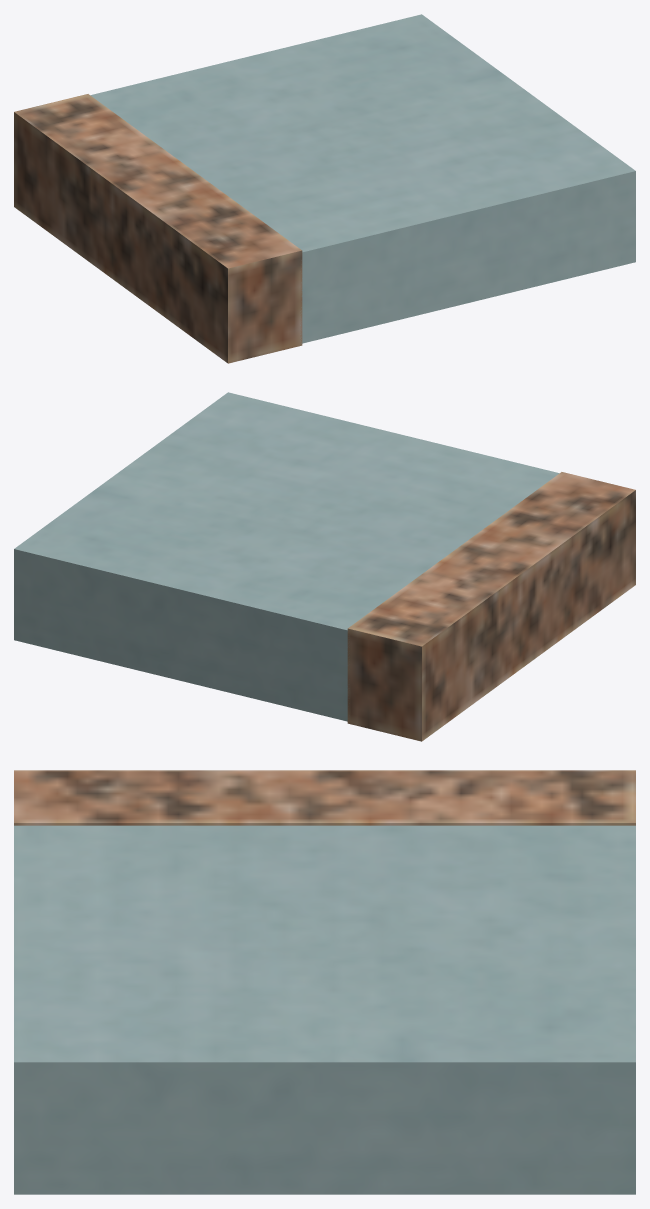
Rendered from set_base_b_03_half.fbx.
3 views of the same model, one above another, from view 1: azimuth 30°, elevation 25°; view 2: azimuth 150°, elevation 25°; view 3: azimuth 270°, elevation 25° (orthographic). The views are drawn at different scales.
Parts seen in each view (by area): view 1: set_base_b_03_half; view 2: set_base_b_03_half; view 3: set_base_b_03_half.
Boxes of the visible parts, left/top/right/bottom form: set_base_b_03_half: left=14, top=14, right=635, bottom=363; set_base_b_03_half: left=14, top=392, right=635, bottom=741; set_base_b_03_half: left=14, top=770, right=635, bottom=1194.
Size of the model in its own units: 55 by 12.25 by 50.
